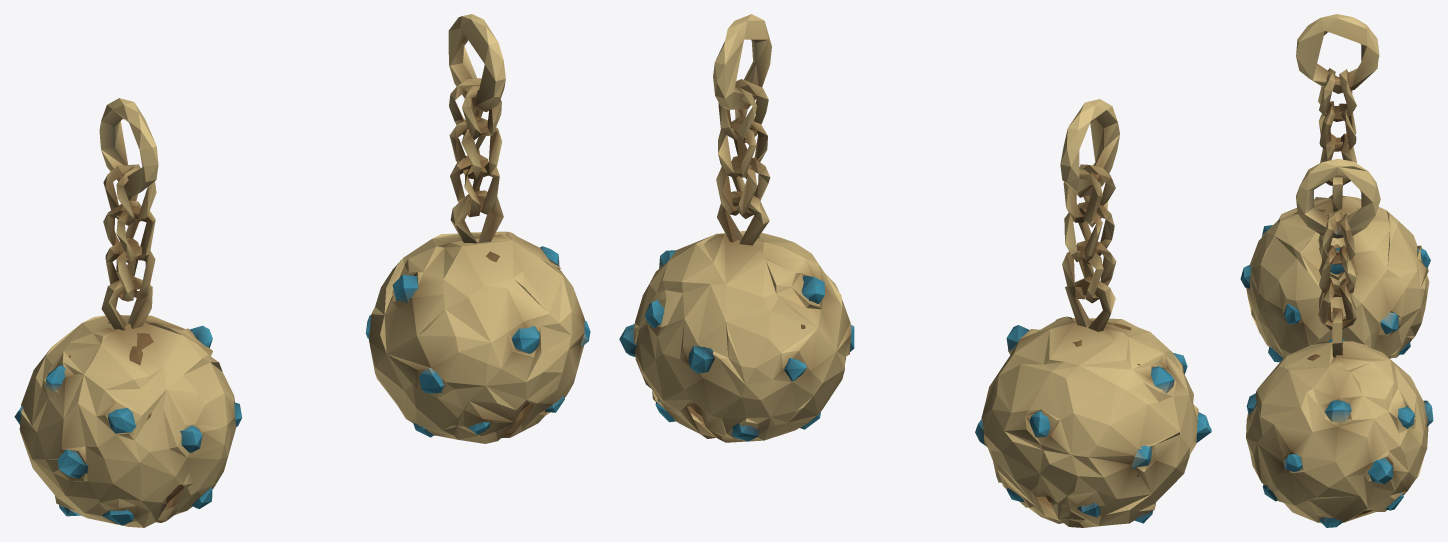
Rendered from gold_bell_1fe88e94.glb.
3 views of the same model, side by side, from view 1: azimuth 30°, elevation 25°; view 2: azimuth 150°, elevation 25°; view 3: azimuth 270°, elevation 25° (orthographic). The views are drawn at different scales.
Visible parts, largest first — view 1: SM_CL20042_02 - Default_0; view 2: SM_CL20042_02 - Default_0; view 3: SM_CL20042_02 - Default_0.
Boxes of the visible parts, x1,y1,x2,y2 form: SM_CL20042_02 - Default_0: (14, 14, 590, 527); SM_CL20042_02 - Default_0: (619, 14, 1211, 527); SM_CL20042_02 - Default_0: (1240, 14, 1433, 527).
Bounding box in the file's own units: 0.0405 × 0.0299 × 0.0147.
